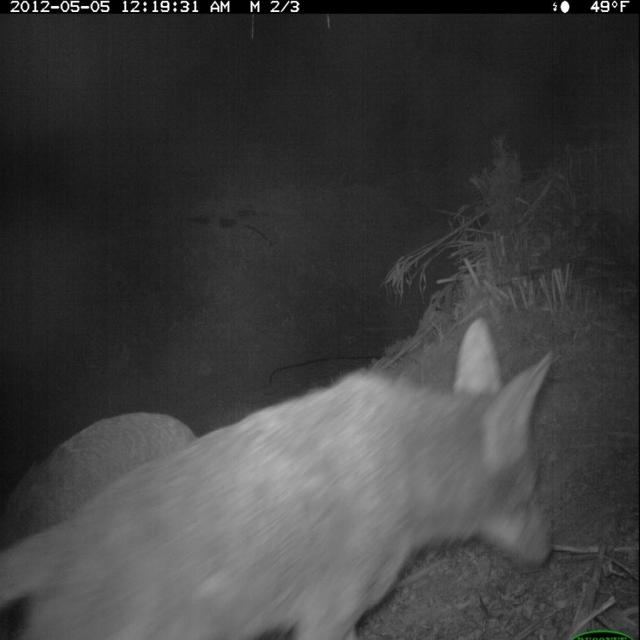coyote: (3, 308, 560, 640), (1, 402, 200, 547)
